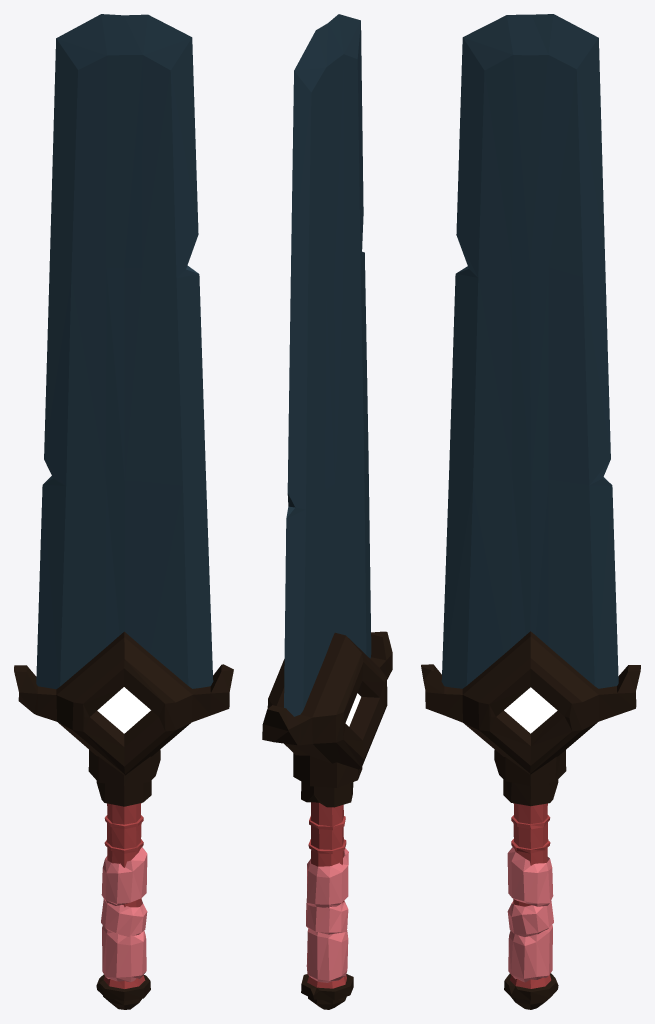
Rendered from SFFA_Weapon_Longsword_Gold_004.fbx.
3 renders of one model, left to right at view 1: azimuth 90°, elevation 25°; view 2: azimuth 150°, elevation 25°; view 3: azimuth 270°, elevation 25°, orthographic.
Parts seen in each view (by area): view 1: SFFA_Weapon_Longsword_Gold_004; view 2: SFFA_Weapon_Longsword_Gold_004; view 3: SFFA_Weapon_Longsword_Gold_004.
Part boxes in pixels (left/top/right/bottom): SFFA_Weapon_Longsword_Gold_004: left=14, top=14, right=233, bottom=1009; SFFA_Weapon_Longsword_Gold_004: left=262, top=14, right=392, bottom=1009; SFFA_Weapon_Longsword_Gold_004: left=421, top=14, right=640, bottom=1009.
Bounding box in the file's own units: 11.38 × 145 × 29.05.
